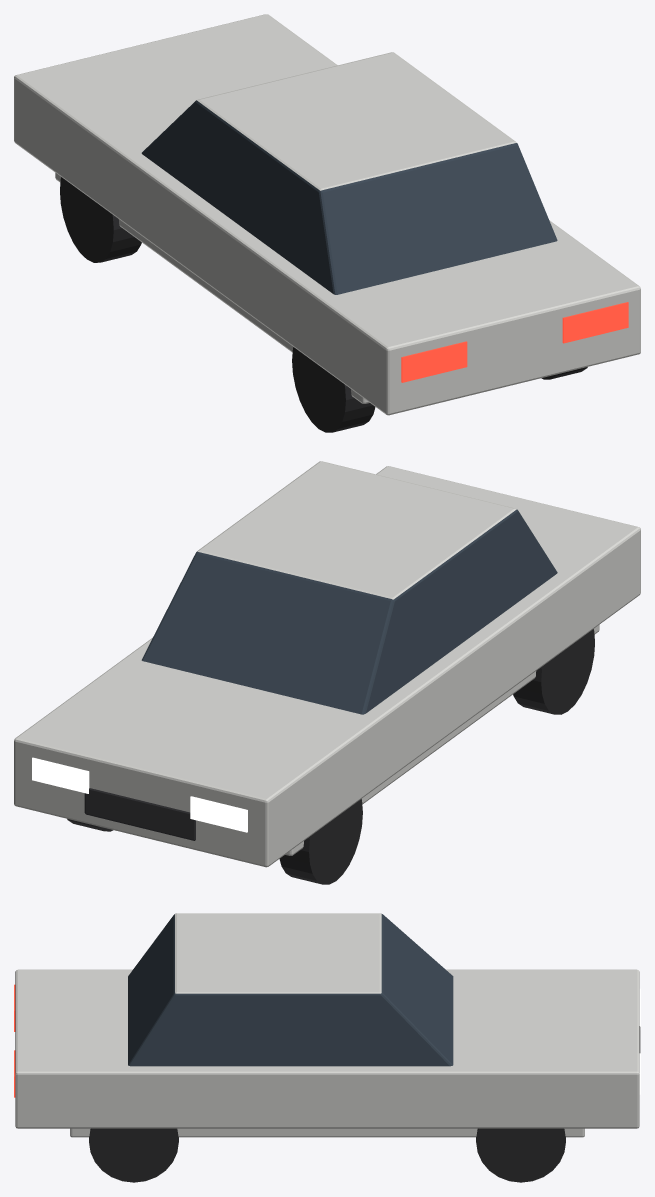
The model's file is sedan.glb.
The picture shows the model from 3 angles, top to bottom: view 1: azimuth 30°, elevation 25°; view 2: azimuth 150°, elevation 25°; view 3: azimuth 270°, elevation 25°; orthographic projection. The views are drawn at different scales.
Visible parts, largest first — view 1: body, wheel_rl, wheel_fl, lights; view 2: body, wheel_fl, wheel_rl, lights; view 3: body, wheel_fr, wheel_rr.
Boxes of the visible parts, x1,y1,x2,y2 form: body: (14,14,640,415); wheel_rl: (292,347,375,432); wheel_fl: (60,177,141,262); lights: (401,302,628,382); body: (14,461,640,867); wheel_fl: (279,799,362,884); wheel_rl: (513,629,594,714); lights: (32,757,247,832); body: (15,913,640,1137); wheel_fr: (476,1128,565,1182); wheel_rr: (89,1128,178,1182).
Bounding box in the file's own units: 1.8 × 1.45 × 4.6.
